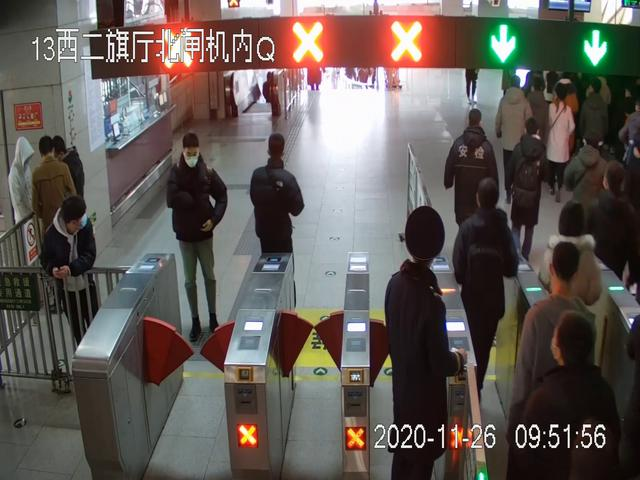person: (386, 206, 469, 480), (513, 240, 597, 480), (514, 309, 622, 480), (453, 176, 519, 408), (167, 133, 227, 340), (40, 198, 103, 382), (445, 108, 500, 295), (250, 134, 305, 307), (8, 135, 44, 309), (507, 118, 549, 264), (495, 76, 532, 203), (544, 88, 575, 201)
